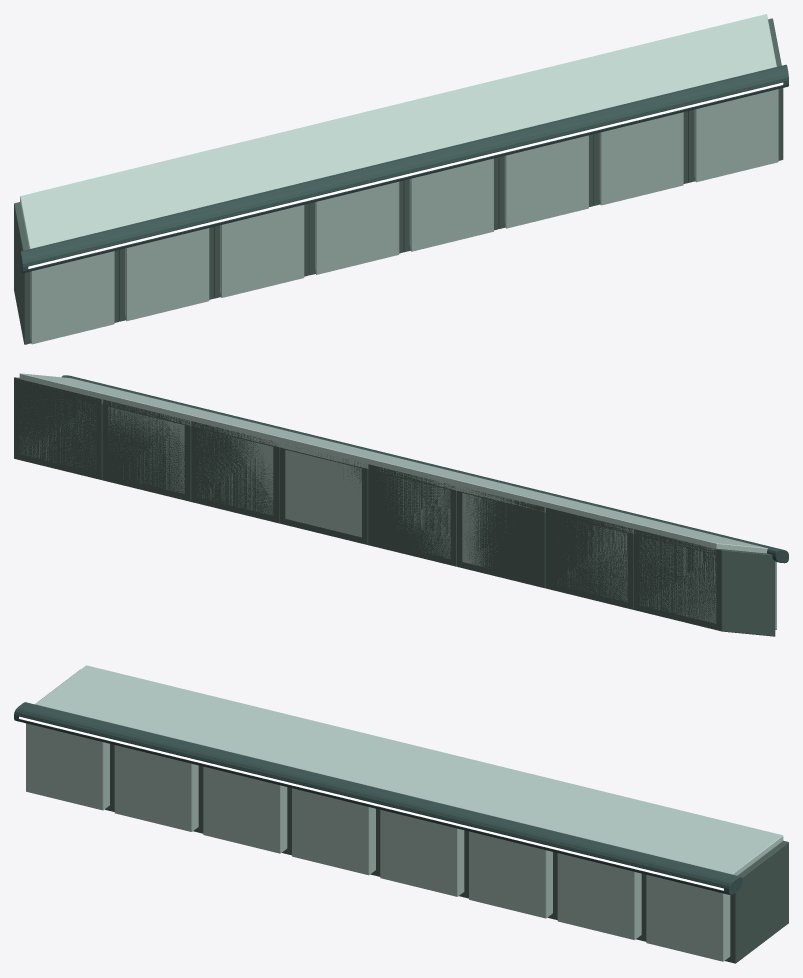
The model's file is Terrain_TopRun8LR.gltf.
3 views of the same model, one above another, from view 1: azimuth 30°, elevation 25°; view 2: azimuth 150°, elevation 25°; view 3: azimuth 330°, elevation 25° (orthographic). The views are drawn at different scales.
Parts seen in each view (by area): view 1: Terrain_TopRun8LR_baked; view 2: Terrain_TopRun8LR_baked; view 3: Terrain_TopRun8LR_baked.
Boxes of the visible parts, <box> form: Terrain_TopRun8LR_baked: <box>14,14,788,344</box>; Terrain_TopRun8LR_baked: <box>14,373,788,636</box>; Terrain_TopRun8LR_baked: <box>14,665,788,963</box>.
Bounding box in the file's own units: 8.33 × 1.18 × 0.74.
